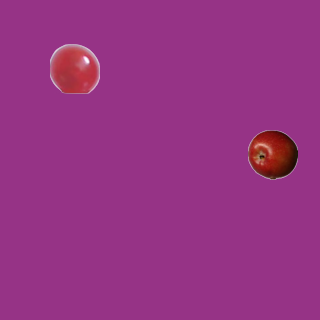Apple Braeburn: (247, 129, 297, 179)
Redcurrant: (49, 43, 99, 93)
